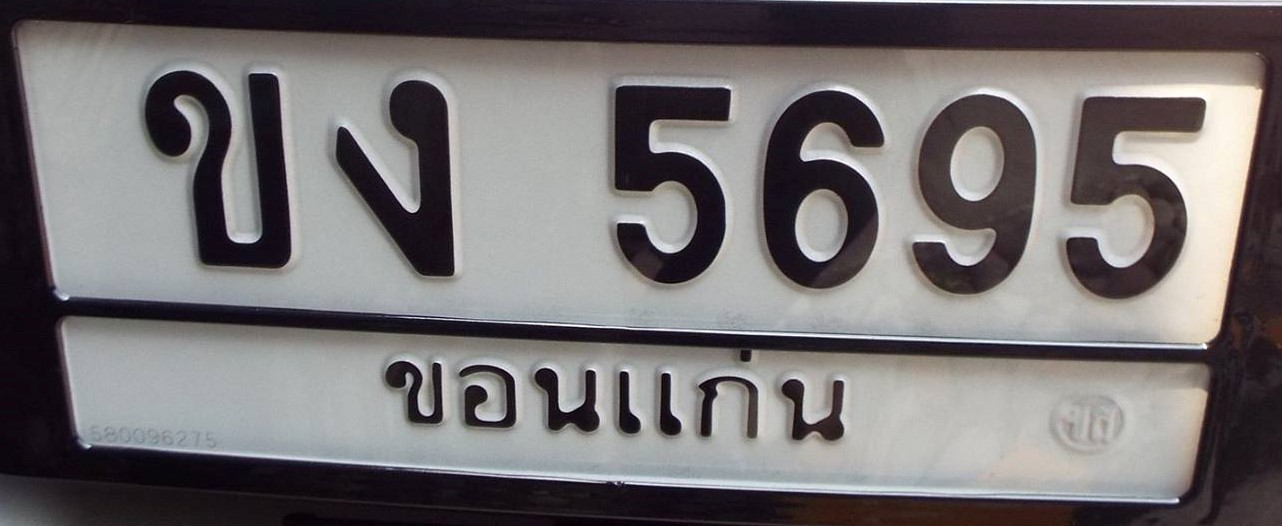txt02: (132, 62, 298, 275)
txt05: (325, 68, 465, 286)
